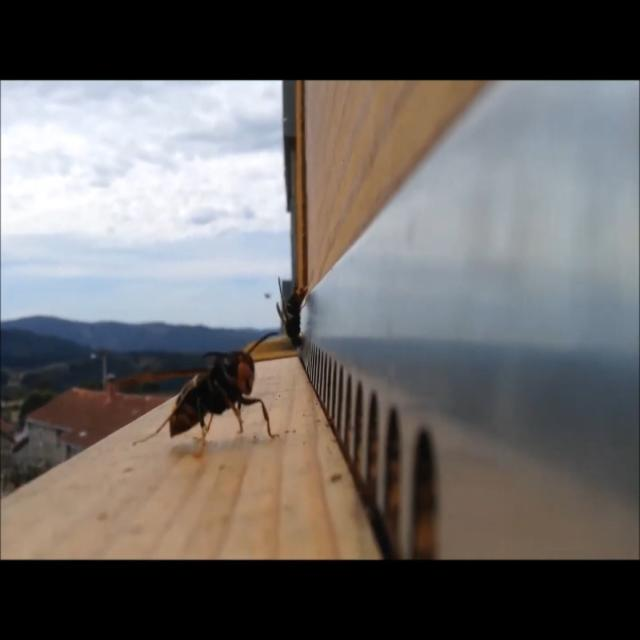Hornets: (126, 328, 280, 448), (271, 274, 309, 352)
